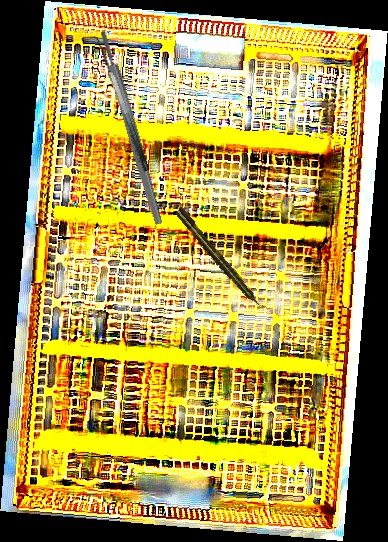Handpiece: (173, 205, 267, 314)
Scalpel Handle: (97, 30, 165, 226)
Spatula Surgical: (85, 33, 151, 176)
